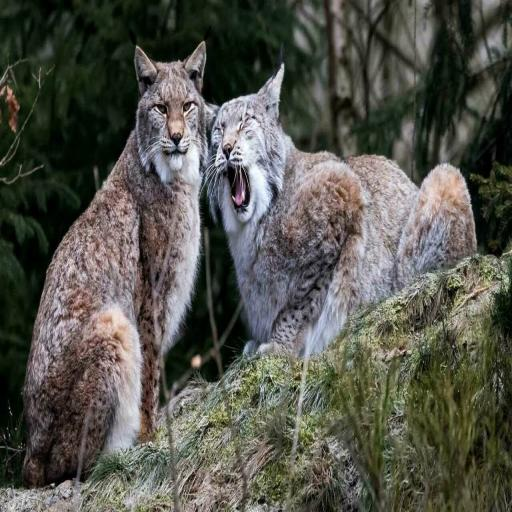lynx: (24, 42, 476, 484)
